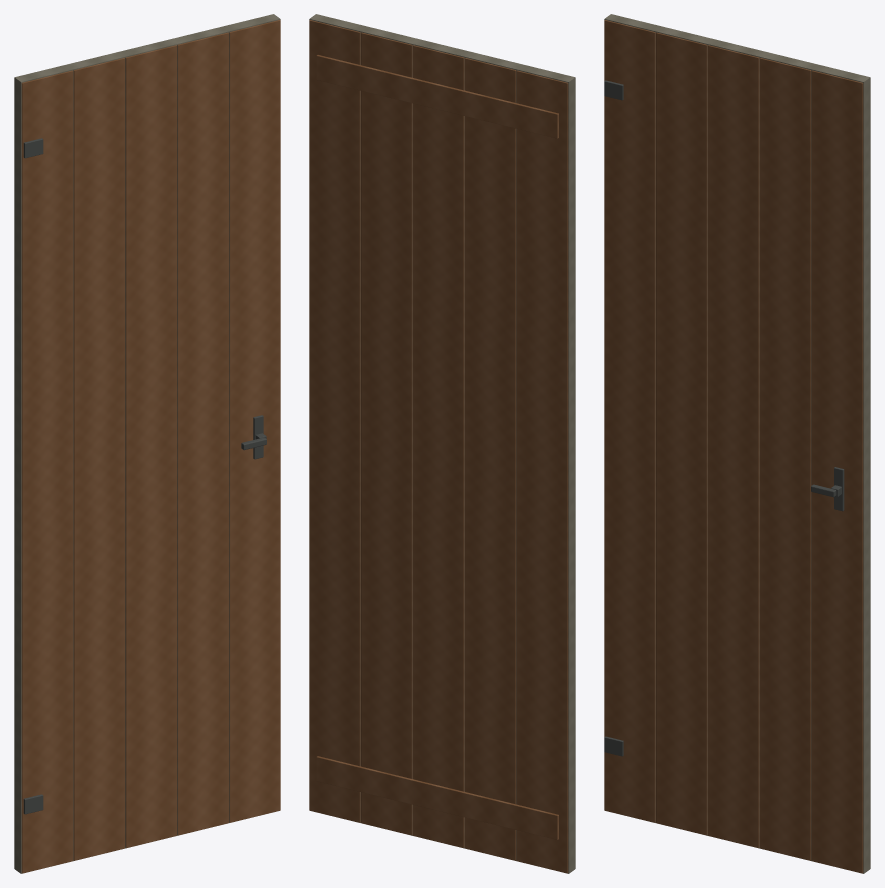
Rendered from MRP_DoorLeaf_Double_Left.fbx.
3 views of the same model, side by side, from view 1: azimuth 30°, elevation 25°; view 2: azimuth 150°, elevation 25°; view 3: azimuth 330°, elevation 25° (orthographic).
Visible parts, largest first — view 1: MRP_DoorLeaf_Double_Left_Hinge_Mesh; view 2: MRP_DoorLeaf_Double_Left_Hinge_Mesh; view 3: MRP_DoorLeaf_Double_Left_Hinge_Mesh.
Part boxes in pixels (left/top/right/bottom): MRP_DoorLeaf_Double_Left_Hinge_Mesh: left=14, top=14, right=280, bottom=873; MRP_DoorLeaf_Double_Left_Hinge_Mesh: left=309, top=14, right=575, bottom=873; MRP_DoorLeaf_Double_Left_Hinge_Mesh: left=604, top=14, right=870, bottom=873.
Size of the model in its own units: 0.72 by 2.1 by 0.082.
